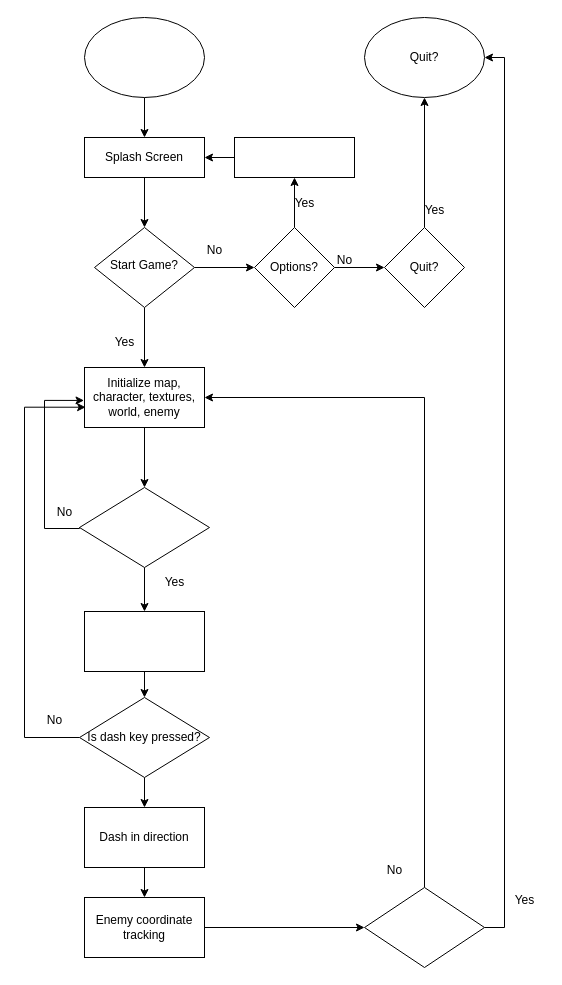
Some shapes in this 562 by 985 pixel diagram are drawn without their labels. The centre of each missing label's shape, as x and y in pixels:
"Adjust settings" belongs at [294,157].
"Is movement key pressed?" belongs at [144,527].
"Move in direction" belongs at [144,641].
"Start" belongs at [144,57].
"Window exited?" belongs at [424,927].
